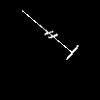treble_crochet: (22, 11, 77, 58)
